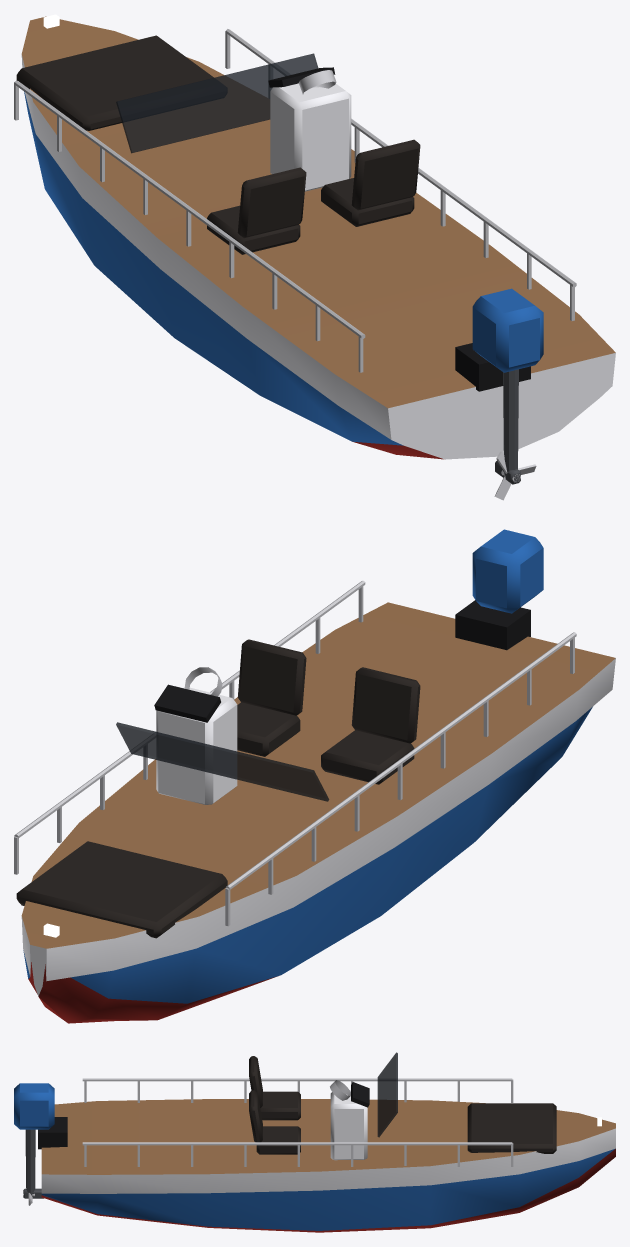
The model's file is boat.glb.
3 views of the same model, one above another, from view 1: azimuth 30°, elevation 25°; view 2: azimuth 150°, elevation 25°; view 3: azimuth 270°, elevation 25° (orthographic). The views are drawn at different scales.
Visible parts, largest first — view 1: Body.015; view 2: Body.015; view 3: Body.015.
Part boxes in pixels (left/top/right/bottom): Body.015: left=14, top=14, right=615, bottom=484; Body.015: left=14, top=529, right=615, bottom=1023; Body.015: left=14, top=1052, right=615, bottom=1232.
Bounding box in the file's own units: 2.4 × 2.34 × 8.12.
